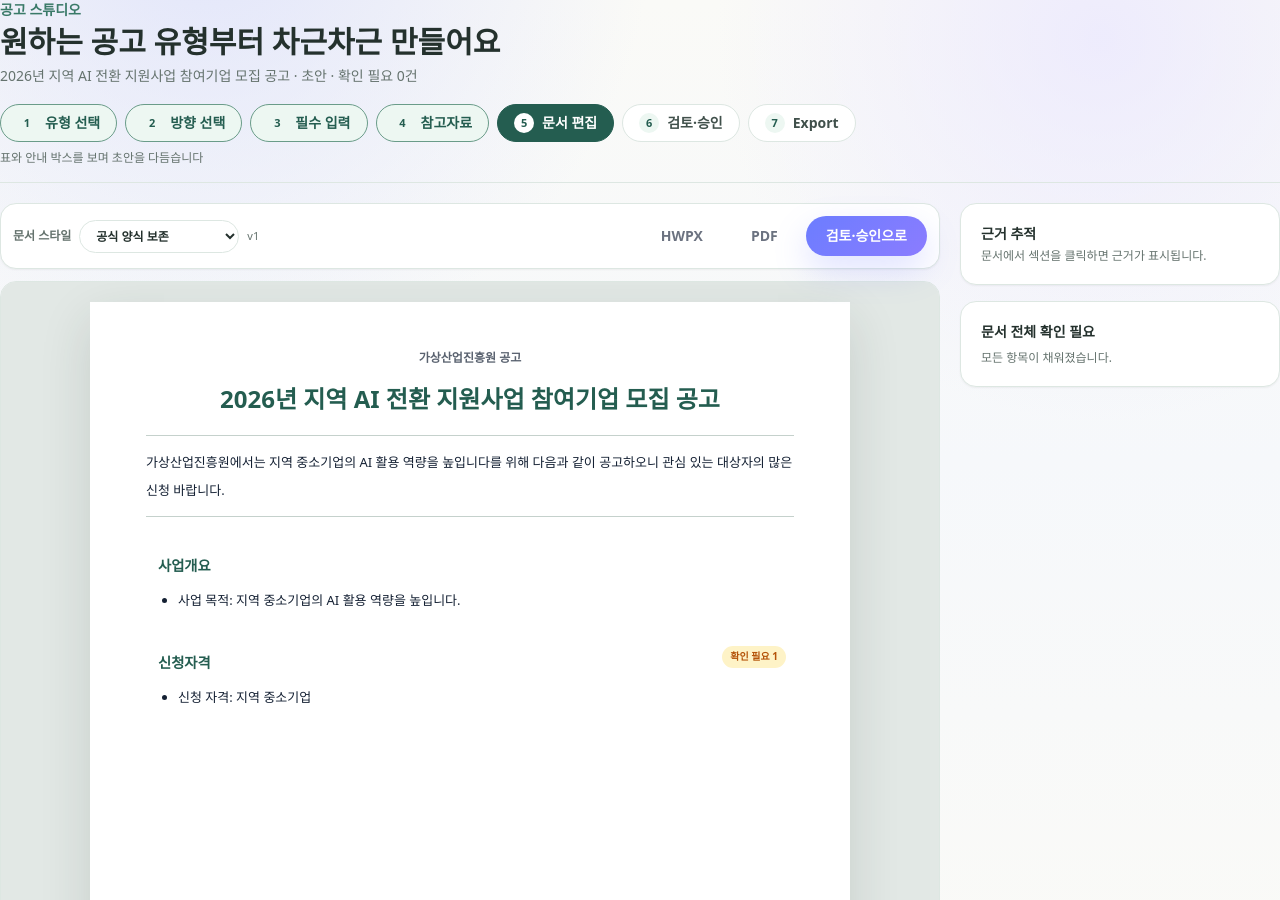
it: AgencyStudio › keeps approval actions state-aware in the review stage
Click the button with test id "studio-stage-review" at (681, 123), box [622,104,740,142]
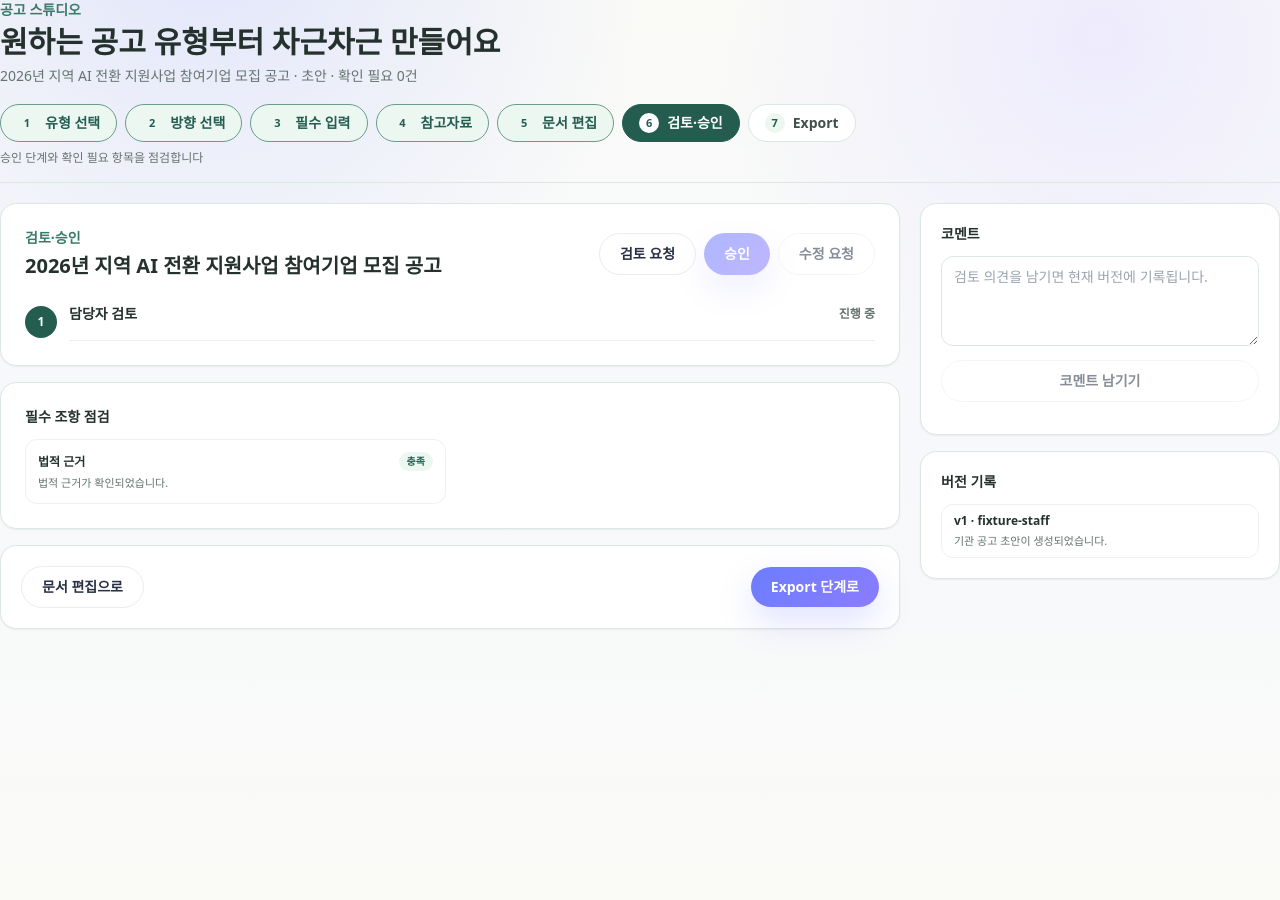
Now the button with test id "approval-submit-review" is enabled, box [599,233,696,275]
Now the button with test id "approval-approve" is disabled, box [704,233,770,275]
